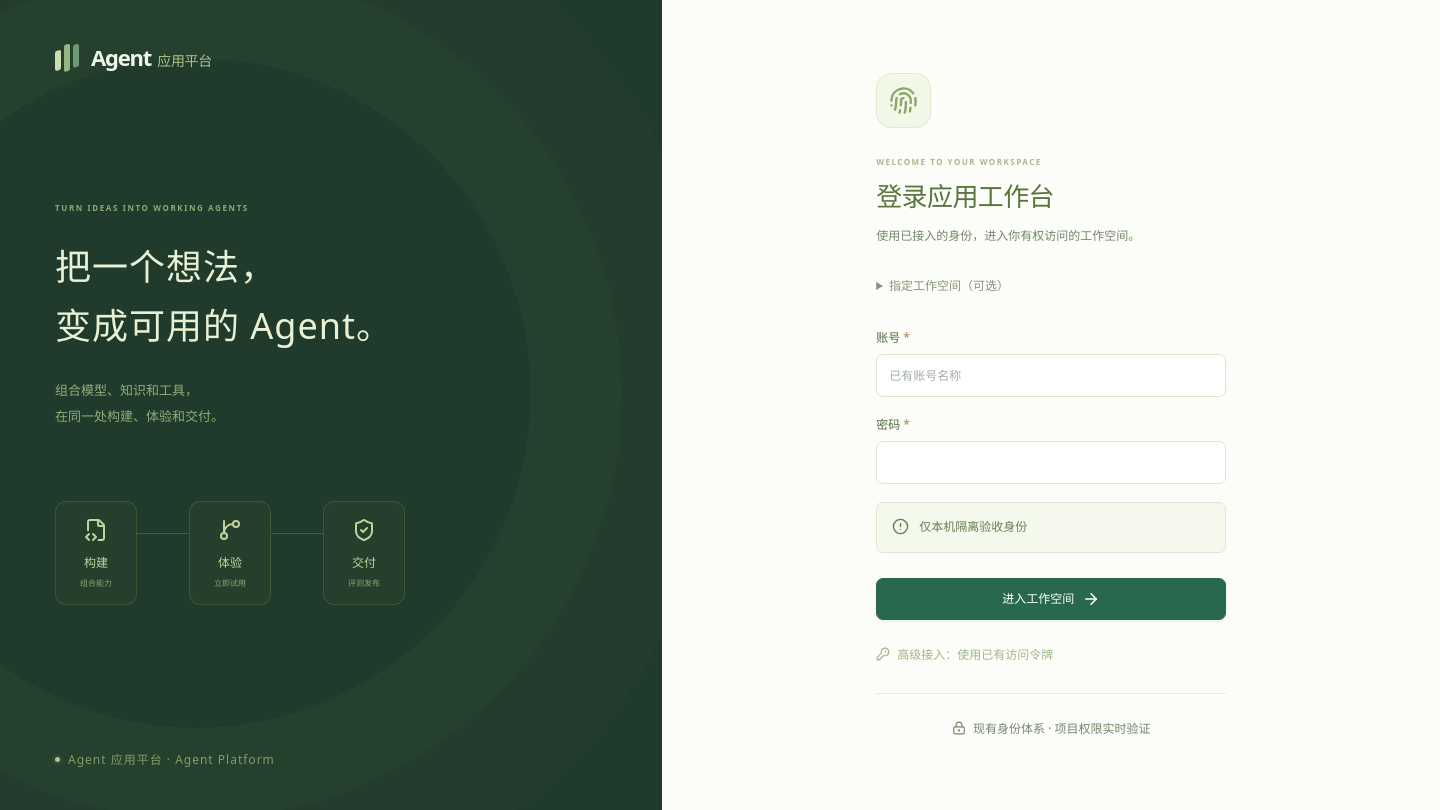
Test case: application Studio product workflow › authenticates local-test login without a hard-coded workspace or invented captcha
The image size is (1440, 810).
Expected: the text "仅本机隔离验收身份" is shown, top-left (919, 516), bottom-right (1027, 539)
Expected: the element named "工作空间标识" is empty, top-left (889, 277), bottom-right (1009, 294)
Type "builder" into the field labelled "账号 *".
click(1051, 375); type("builder")  # box top-left (876, 354), bottom-right (1226, 397)
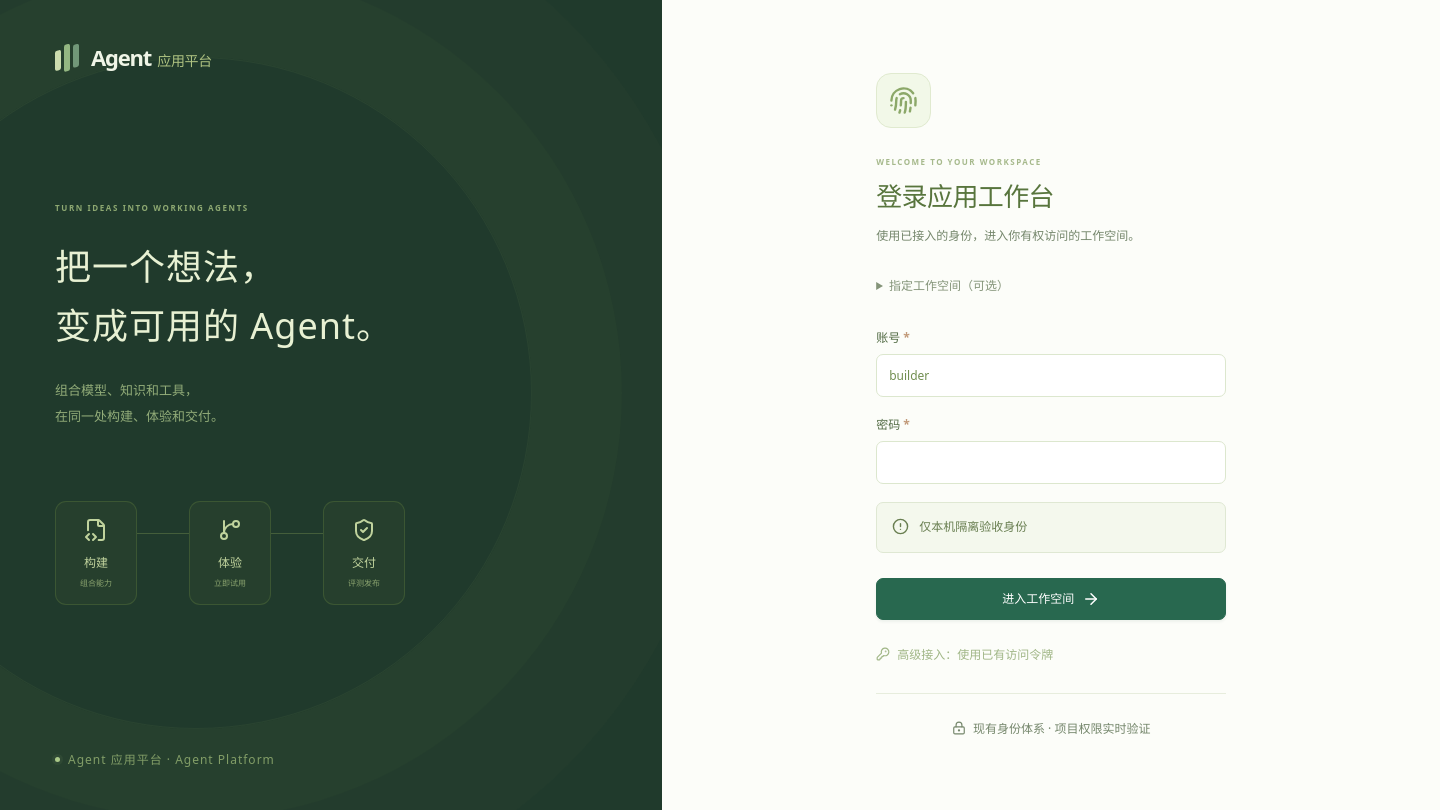
Type "test-password" into the password field labelled "密码 *".
click(1051, 462); type("test-password")  # box top-left (876, 441), bottom-right (1226, 484)
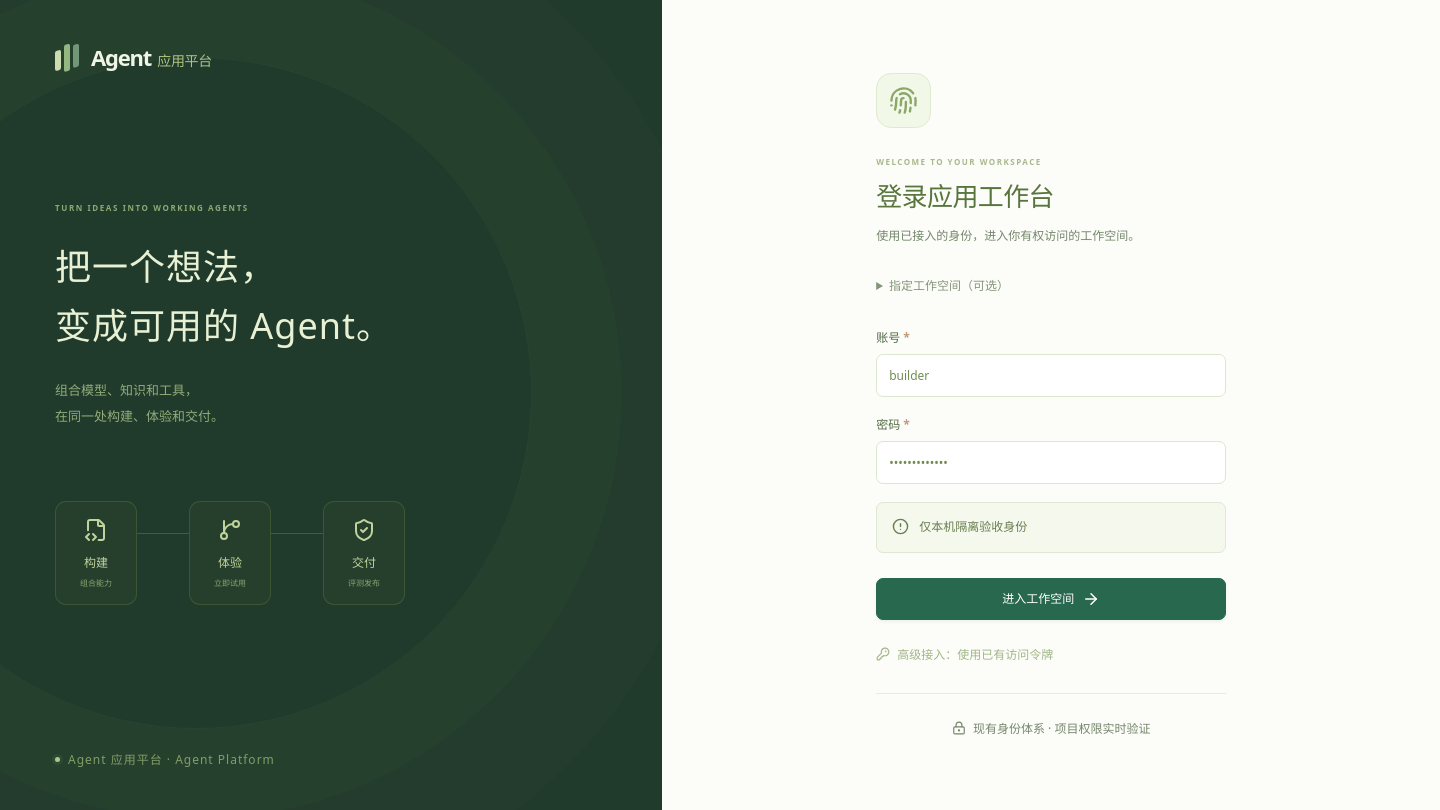
Click the button "进入工作空间".
click(1051, 599)  # box top-left (876, 578), bottom-right (1226, 620)
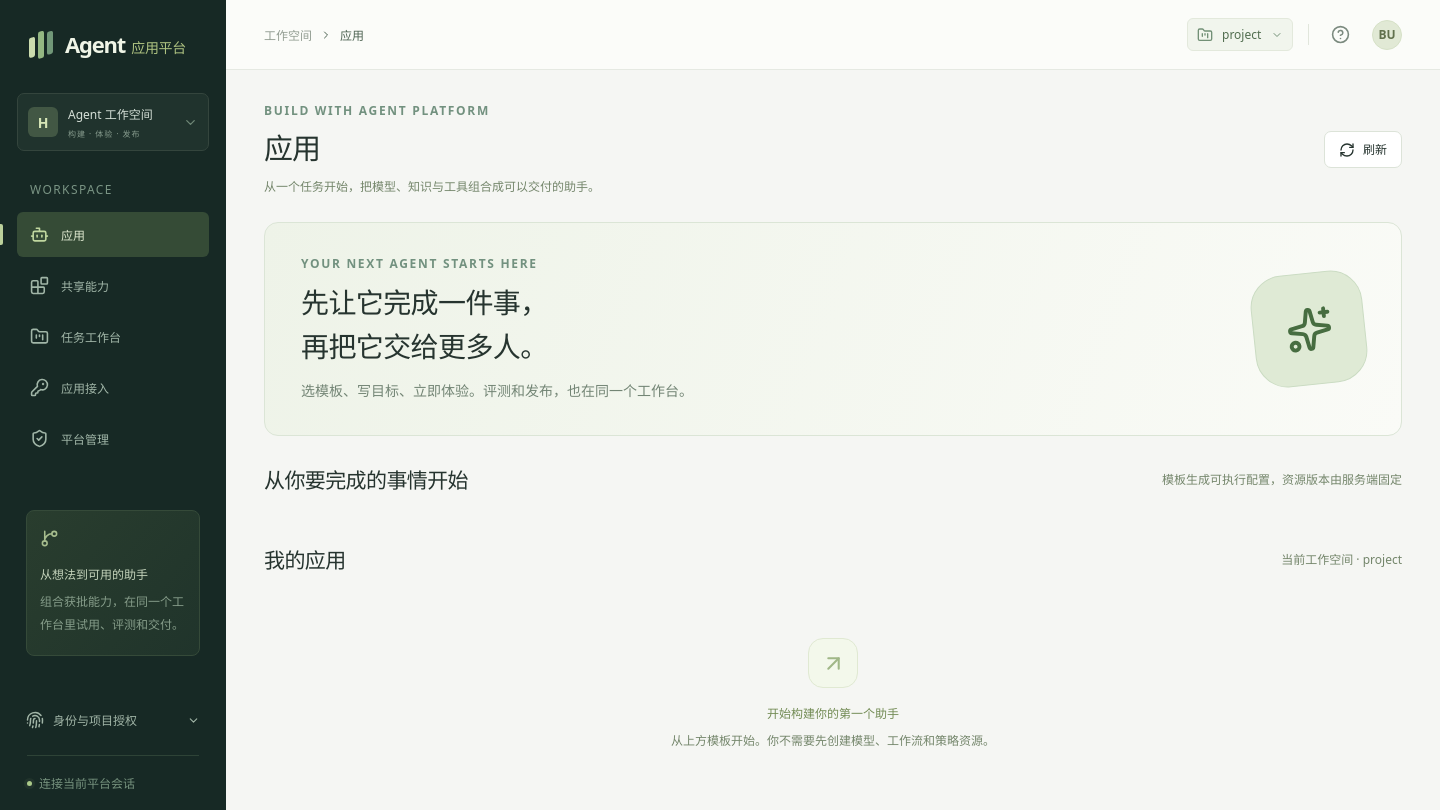
Expected: the heading "我的应用" is shown, top-left (264, 544), bottom-right (346, 574)
